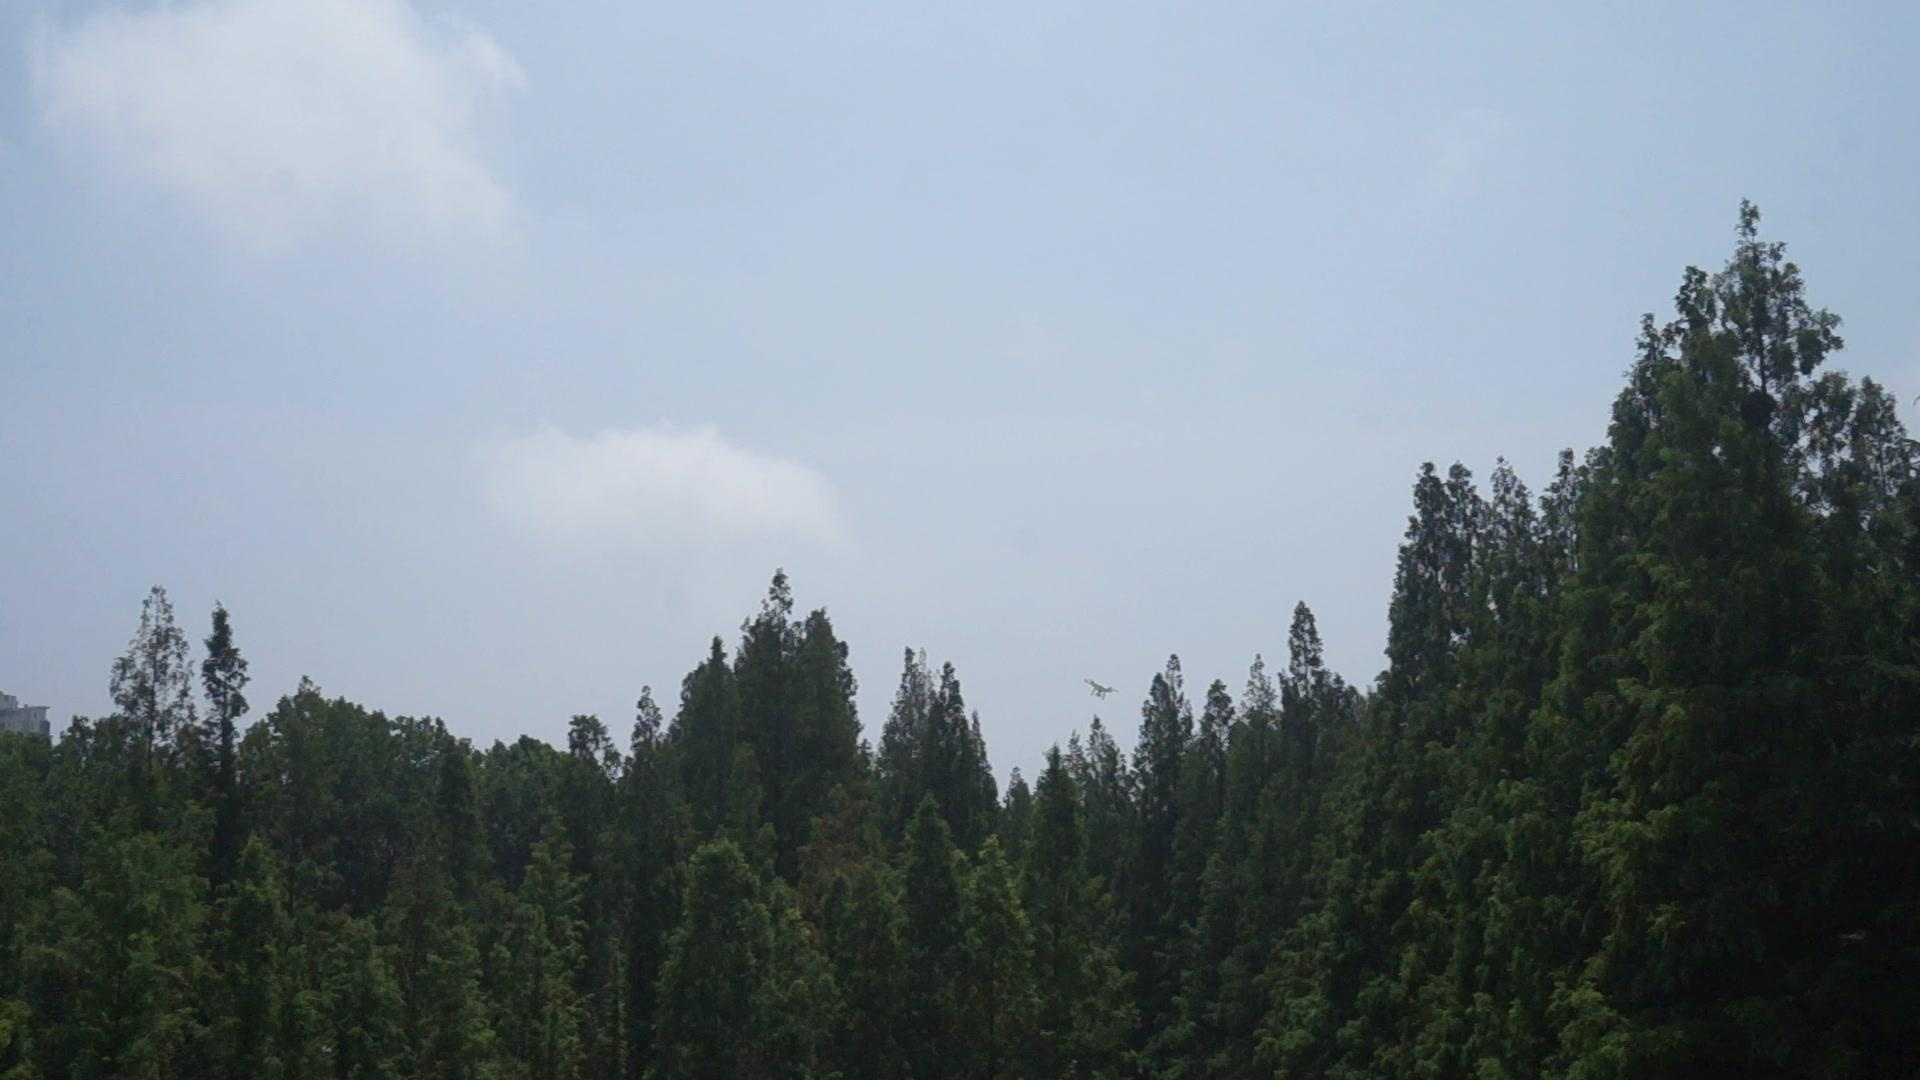UAV: (1084, 680, 1120, 702)
